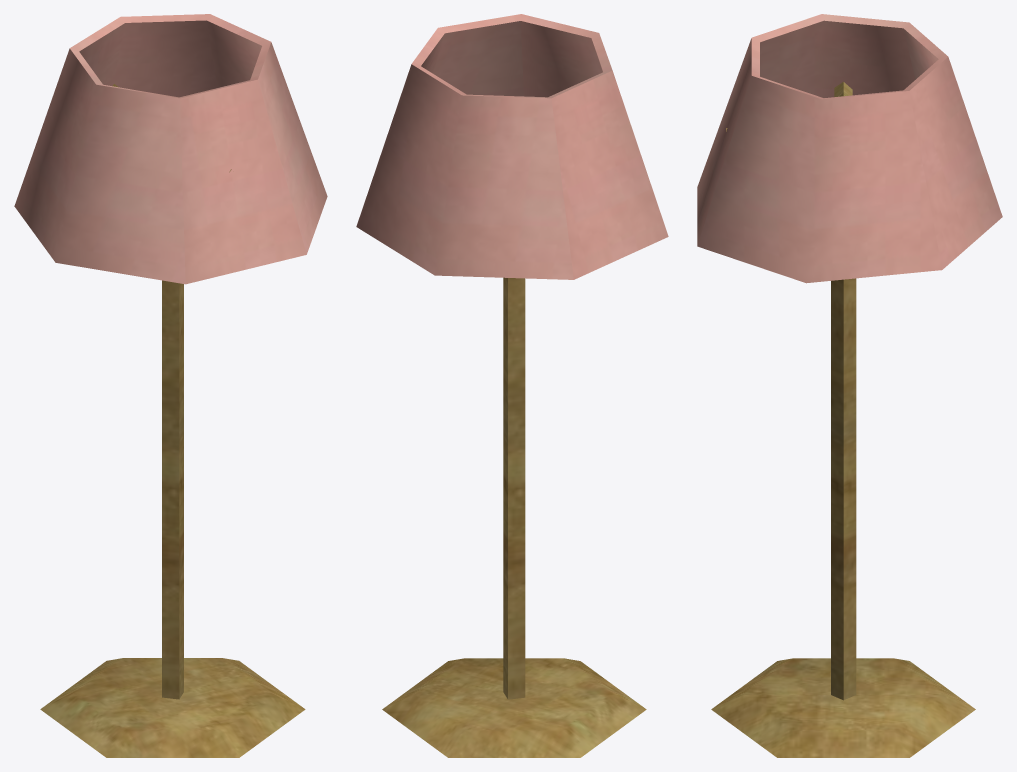
File: Lamps_01-col.glb
The picture shows the model from 3 angles, left to right: view 1: azimuth 30°, elevation 25°; view 2: azimuth 150°, elevation 25°; view 3: azimuth 270°, elevation 25°; orthographic projection.
Visible parts, largest first — view 1: Lamps_01-col; view 2: Lamps_01-col; view 3: Lamps_01-col.
Boxes of the visible parts, bbox=[...] form: Lamps_01-col: bbox=[14, 14, 327, 757]; Lamps_01-col: bbox=[356, 14, 668, 757]; Lamps_01-col: bbox=[697, 14, 1002, 757].
Size of the model in its own units: 0.7138 by 1.64 by 0.6959.
2 materials, 2 textured.
